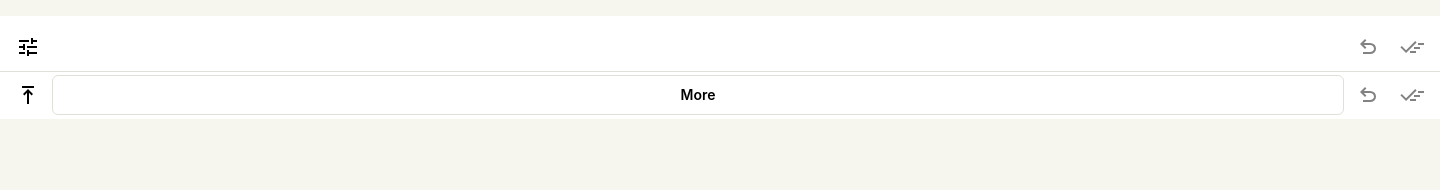
Test case: <HotStoryList> › reveals a "More" button that advances both source feeds in lockstep
Expected: the text "page-0-hot" is shown, [12,22,100,42]
Expected: the text "page-1-hot-from-top" is not shown
Click the button "More": (698, 95) [52,75,1344,115]
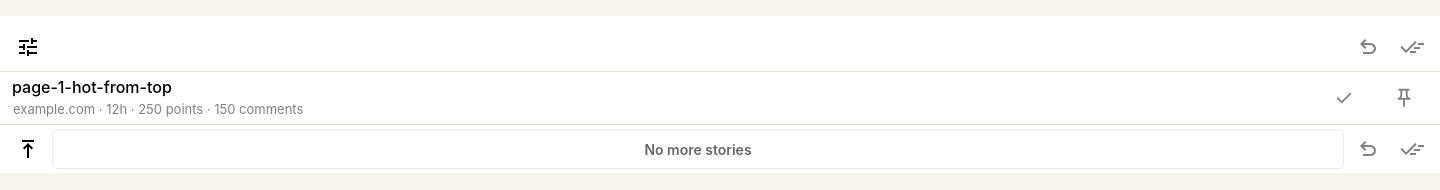
Expected: the text "page-0-hot" is shown, [12,22,100,42]
Result: the text "page-1-hot-from-top" is shown at [12,77,172,97]
